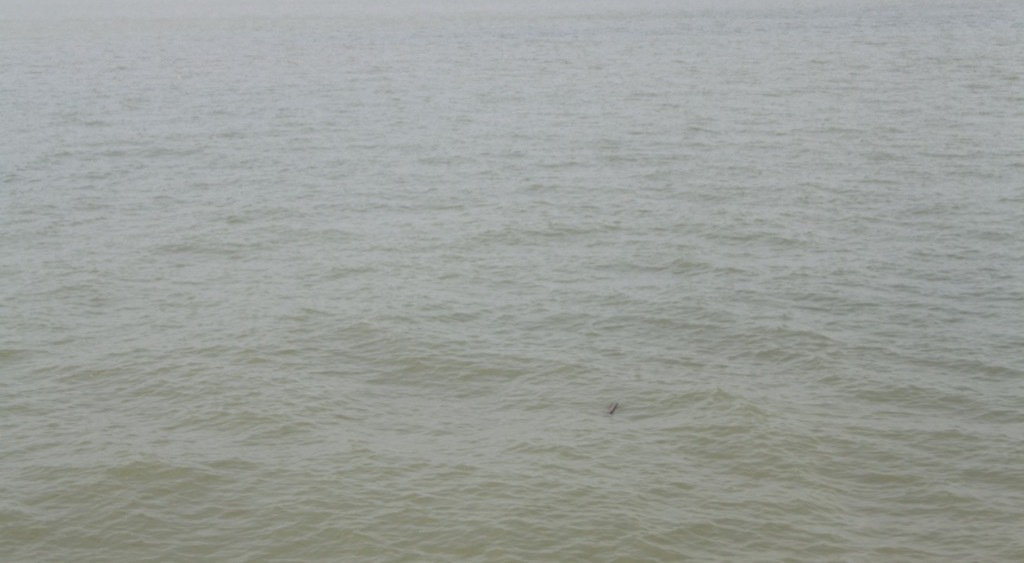plastic: (597, 394, 635, 424)
